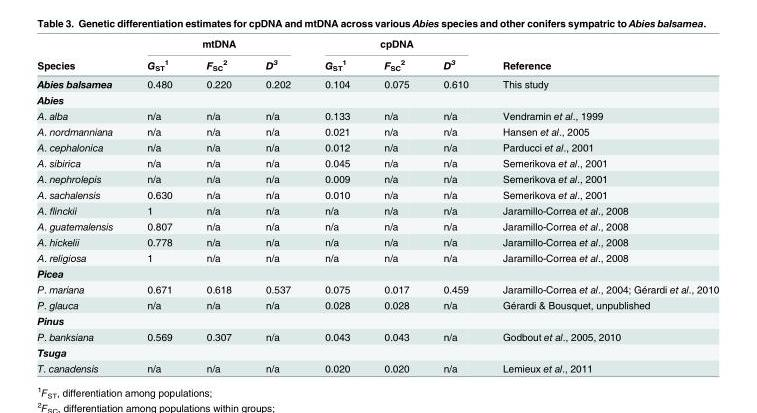table: (36, 37, 718, 373)
table column: (484, 37, 718, 373), (36, 37, 129, 373), (247, 37, 307, 373), (129, 37, 188, 373), (188, 37, 247, 373), (307, 37, 366, 373), (366, 37, 425, 373), (425, 37, 484, 373)
table column header: (36, 37, 718, 74)
table projected row header: (36, 91, 718, 107), (36, 265, 718, 281), (36, 312, 718, 328), (36, 344, 718, 360)
table row: (36, 53, 718, 74), (36, 74, 718, 91), (36, 37, 718, 53), (36, 91, 718, 107), (36, 107, 718, 123), (36, 123, 718, 139), (36, 154, 718, 170), (36, 170, 718, 186), (36, 186, 718, 202), (36, 217, 718, 233), (36, 233, 718, 249), (36, 249, 718, 265), (36, 265, 718, 281), (36, 296, 718, 312), (36, 312, 718, 328), (36, 328, 718, 344), (36, 344, 718, 360), (36, 139, 718, 154), (36, 202, 718, 217), (36, 281, 718, 296), (36, 360, 718, 373)
table spanning cell: (484, 37, 718, 74), (36, 37, 129, 74), (129, 37, 307, 53), (307, 37, 484, 53)
